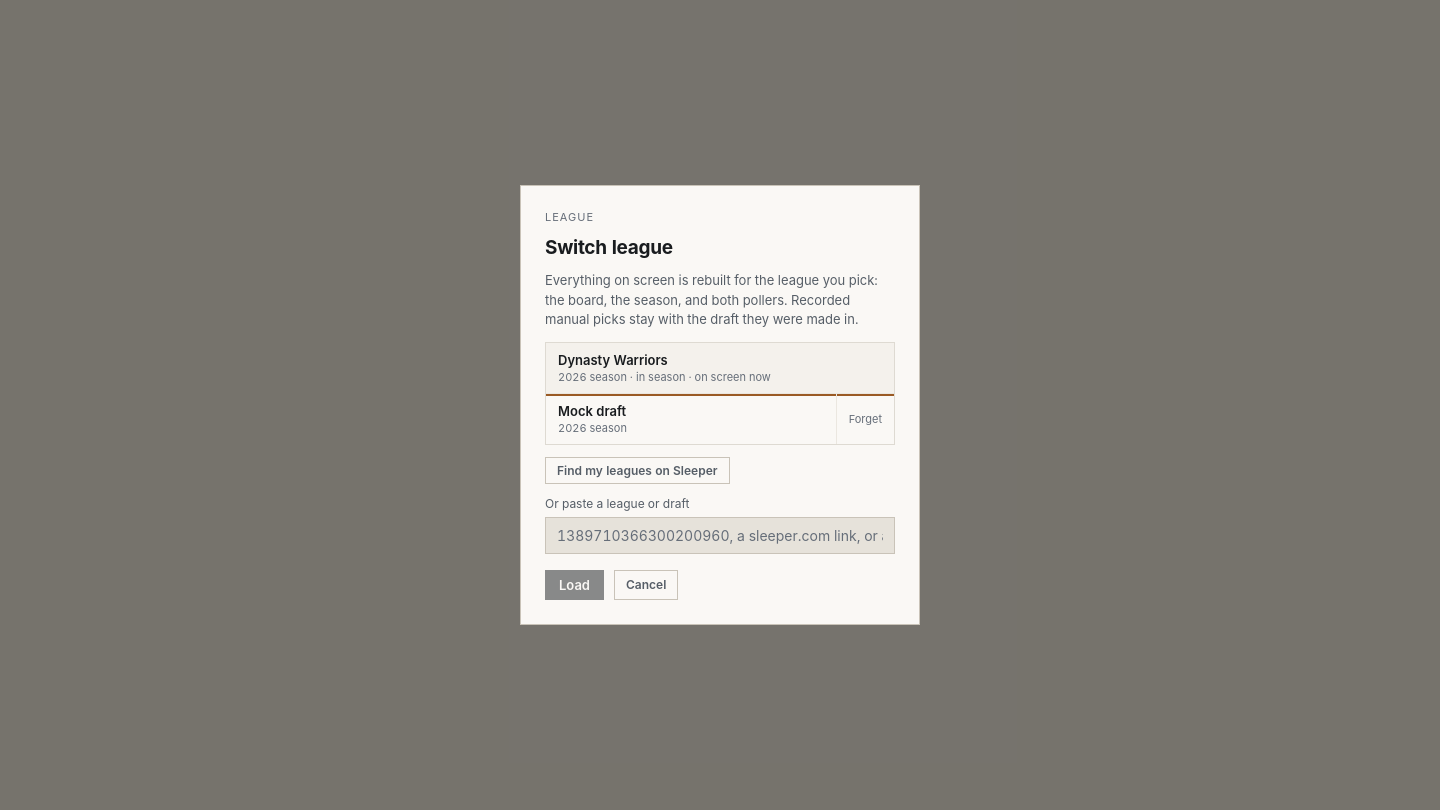
looking the account up on Sleeper › says why the lookup failed and leaves the known leagues alone
Step 1. Click the button "Find my leagues on Sleeper" → (637, 470), box [545,457,730,484]
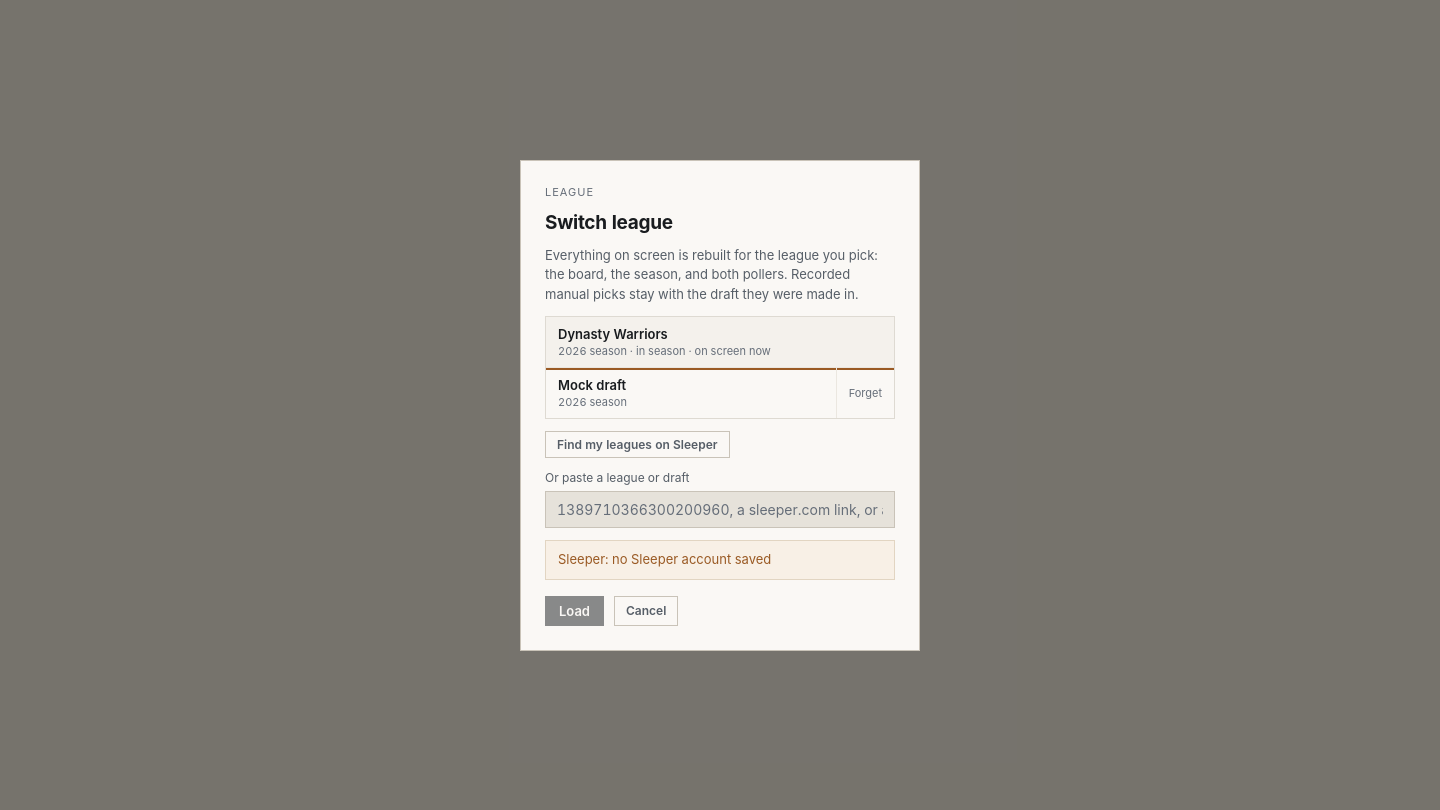
Expected: the button "Mock draft 2026 season" is shown, [546,368,836,418]
Expected: the text "Sleeper: no Sleeper account saved" is shown, [545,540,895,580]
